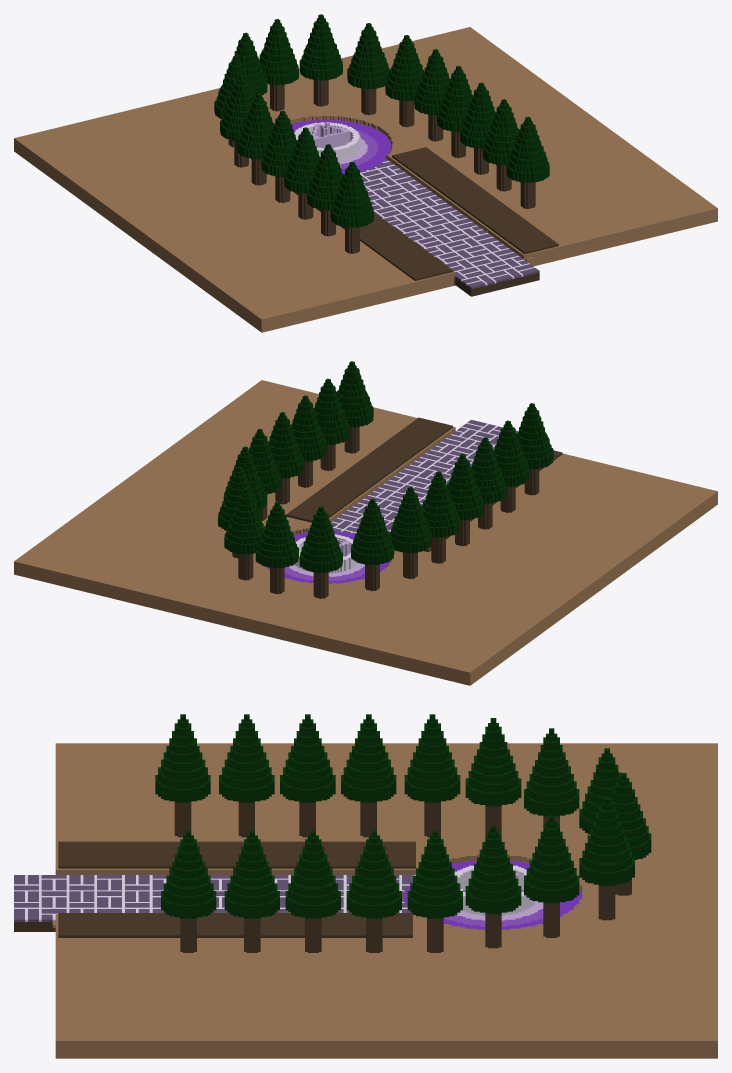
Rendered from court_yard.obj.
3 views of the same model, one above another, from view 1: azimuth 30°, elevation 25°; view 2: azimuth 150°, elevation 25°; view 3: azimuth 270°, elevation 25° (orthographic). The views are drawn at different scales.
Bounding box in the file's own units: 25.4 × 5.4 × 25.4.
Materials: 1 (1 with a texture image).
